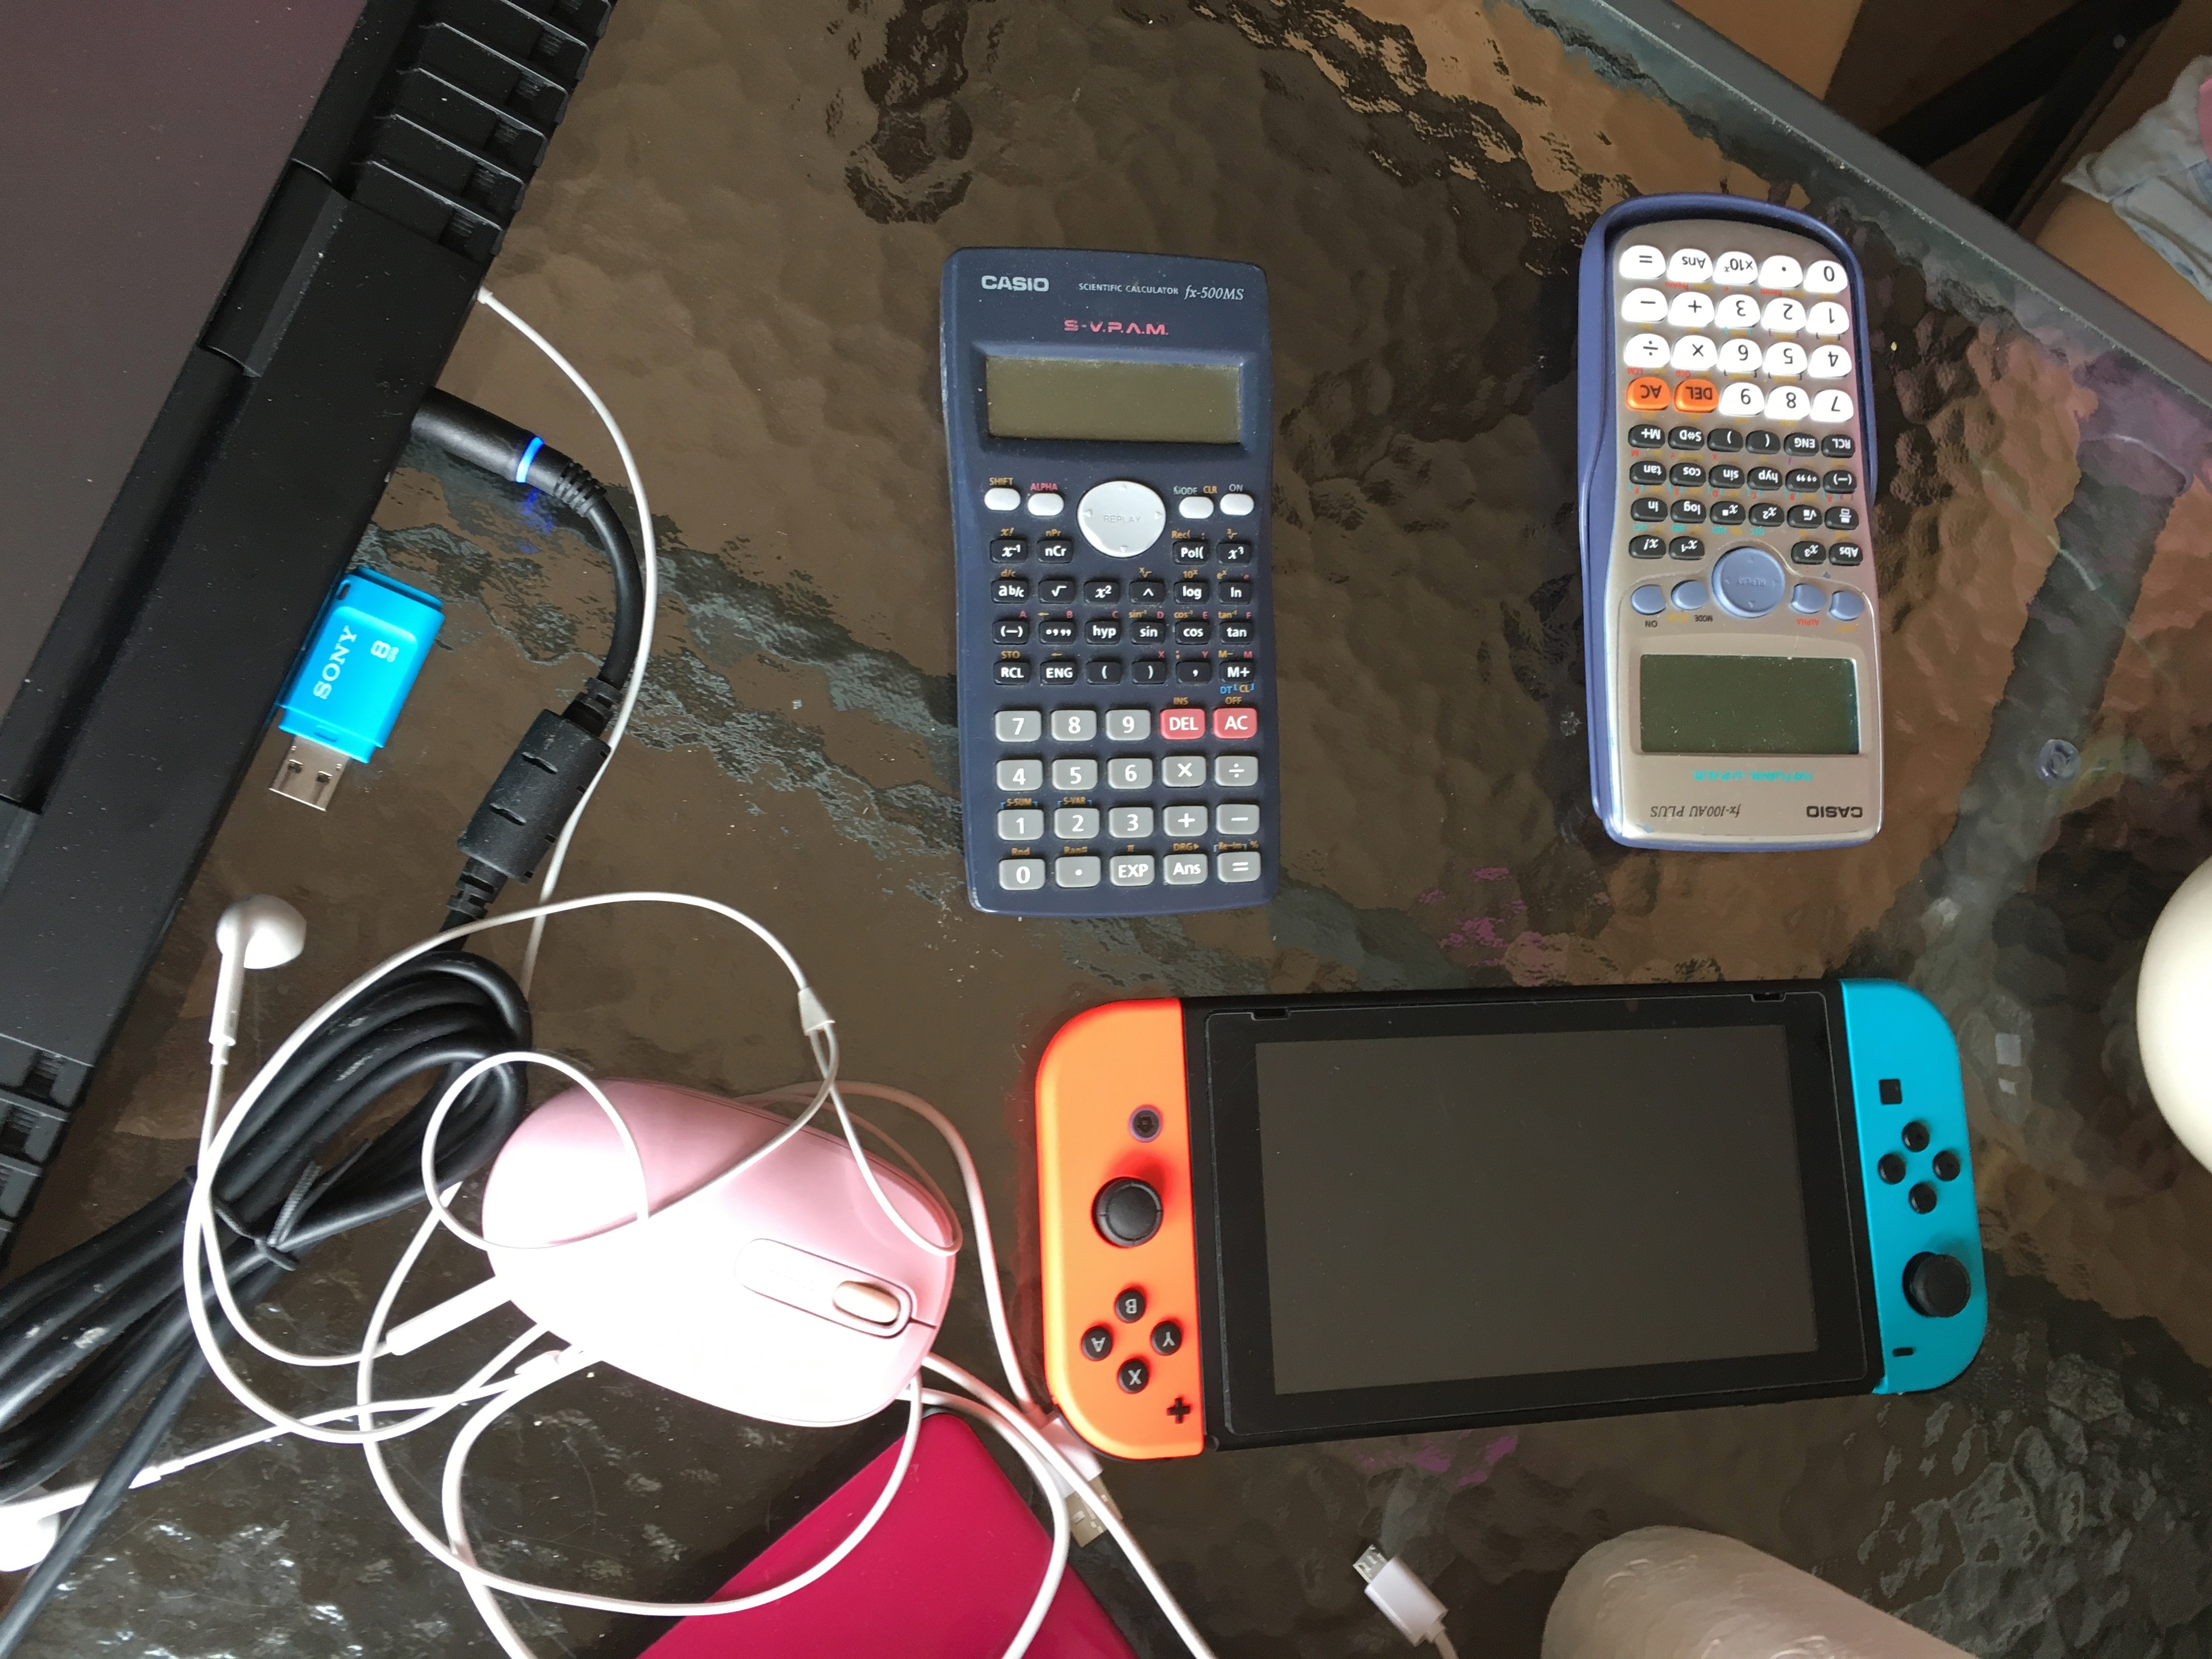Calculator: (927, 235, 1292, 924), (1564, 193, 1902, 864)
NintendoSwitch: (1008, 971, 2024, 1476)
